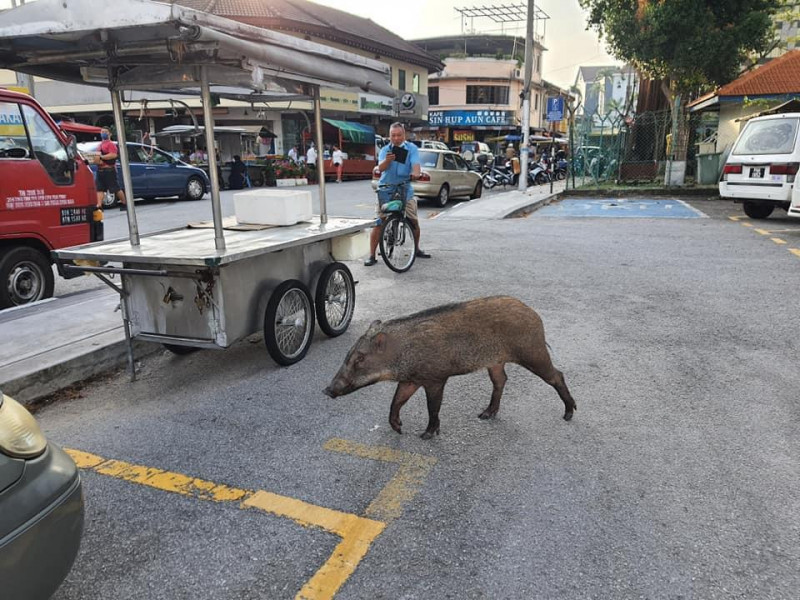boar: (318, 289, 585, 443)
